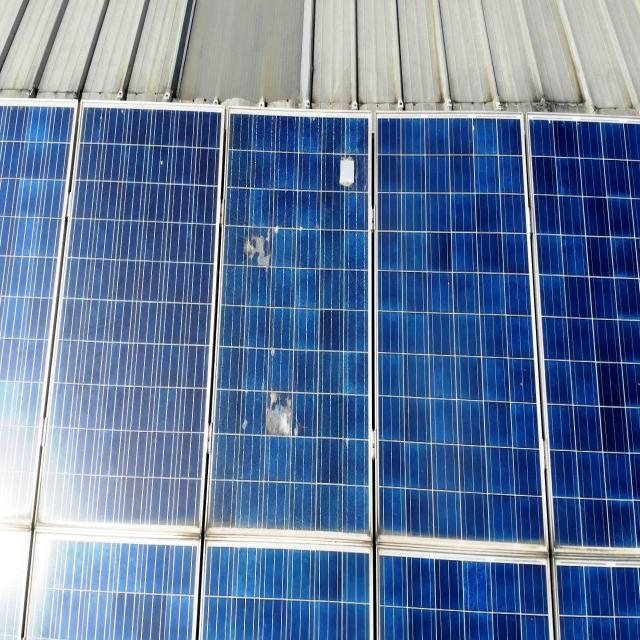faulty: (209, 103, 375, 544)
no faulty: (372, 109, 551, 546), (42, 99, 210, 538), (523, 121, 640, 562)
